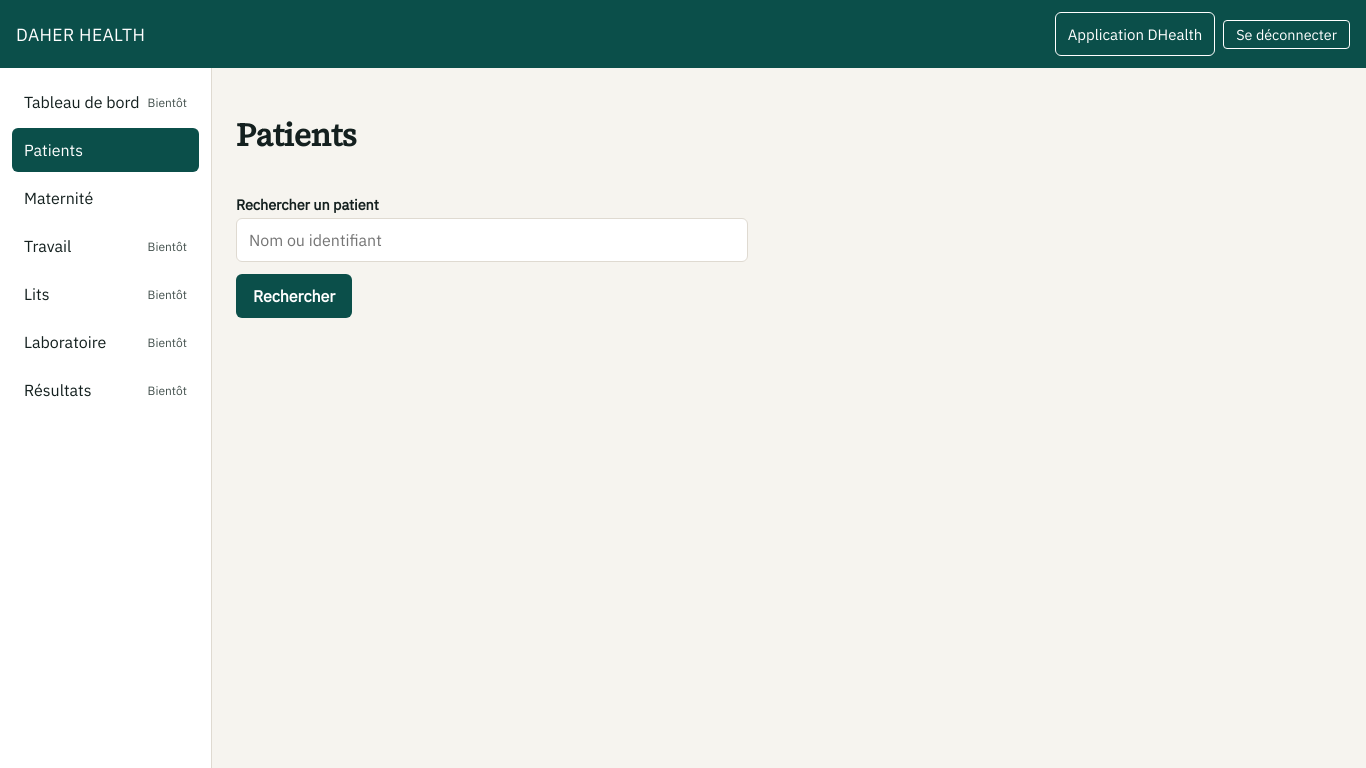
Test: App › selecting a patient from search opens that patient's workspace
This screenshot has width=1366, height=768.
In the search field labelled "Rechercher un patient": point(492, 240) [236,218,748,262], type "Test"
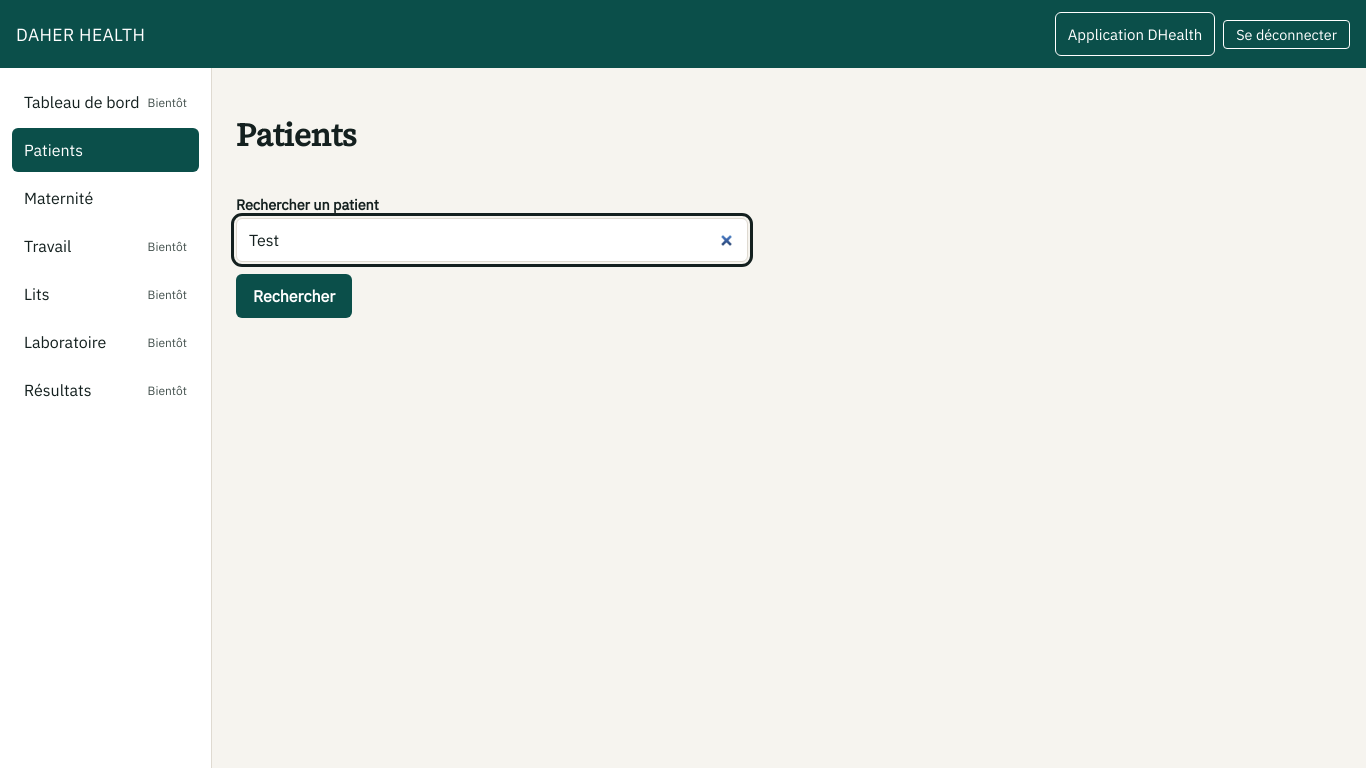
Click the button "Rechercher": point(294, 296) [236,274,352,318]
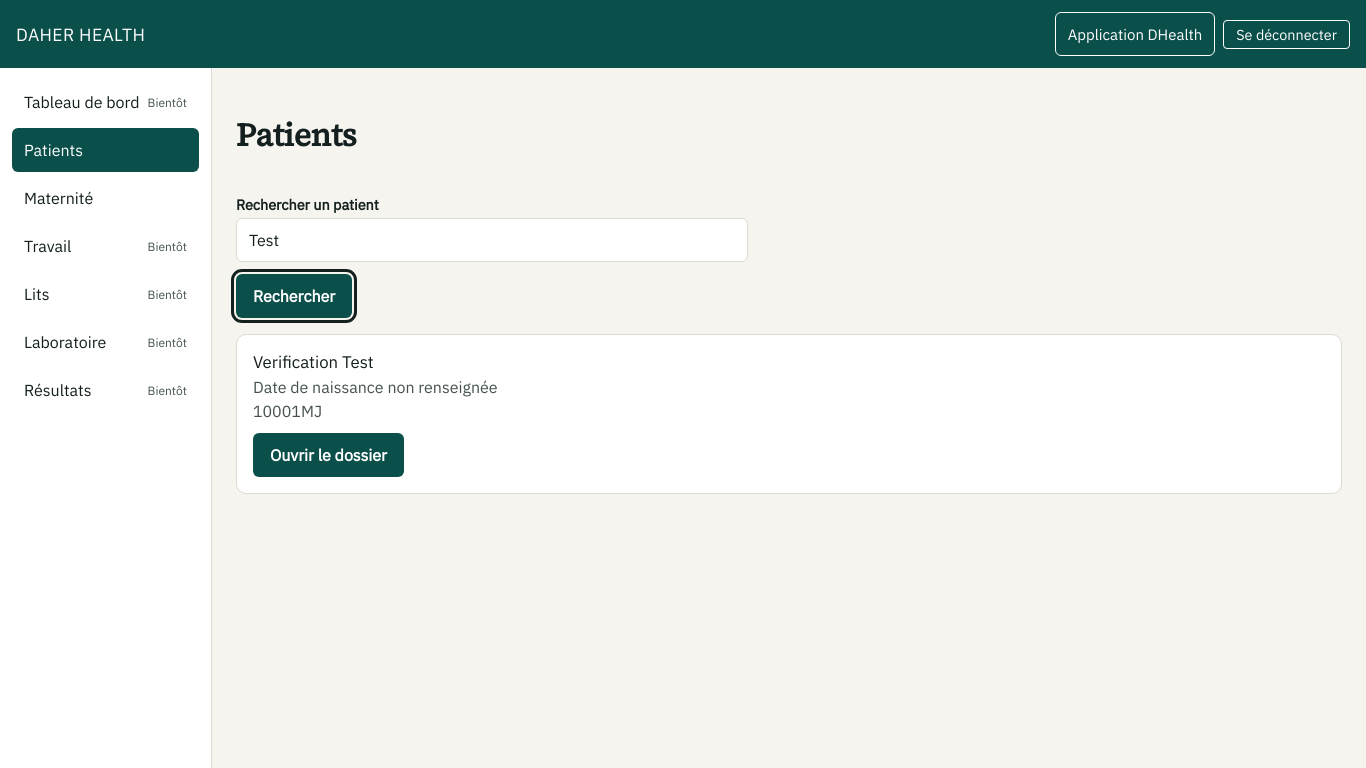
Click the button "Ouvrir le dossier": point(328, 455) [253,433,404,477]
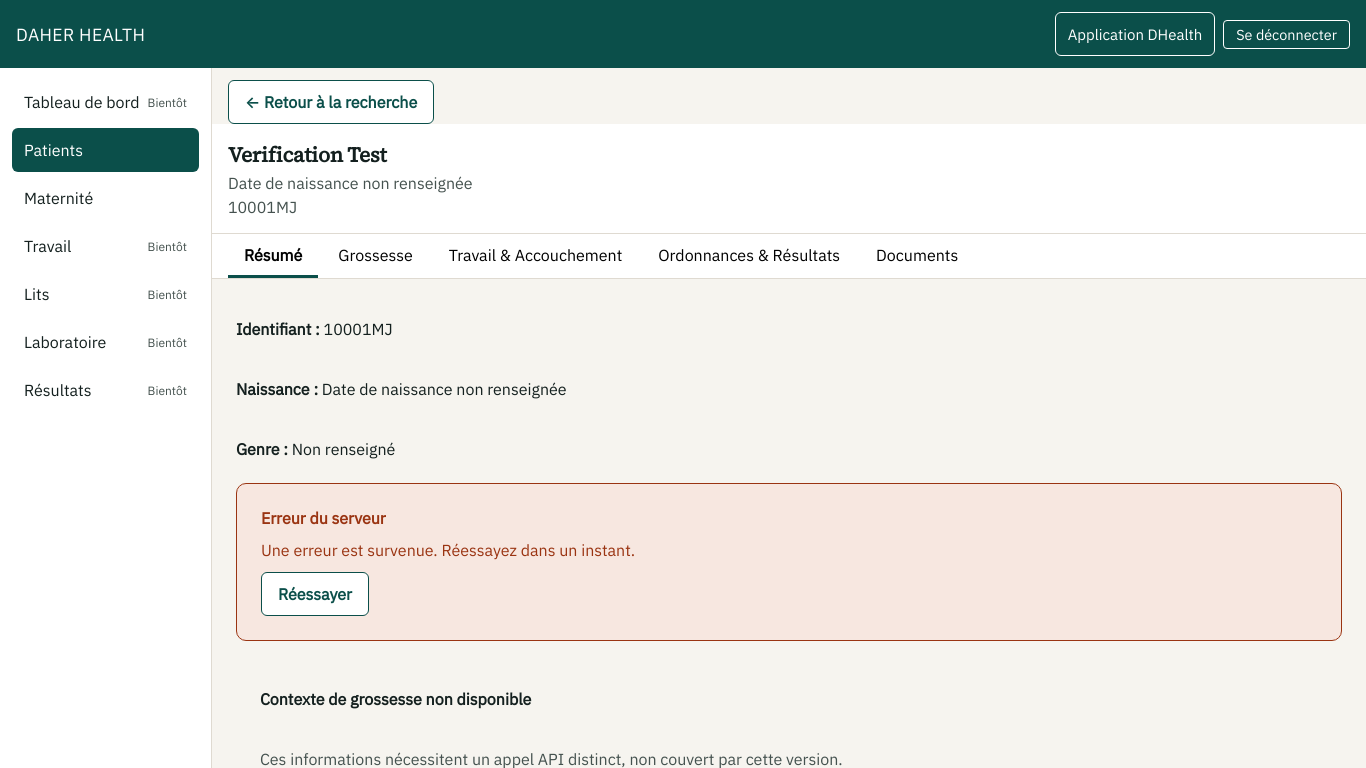
Check: the heading "Verification Test" is shown, box [228,140,387,169]
Check: the text "10001MJ" is shown, box [228,197,297,217]
